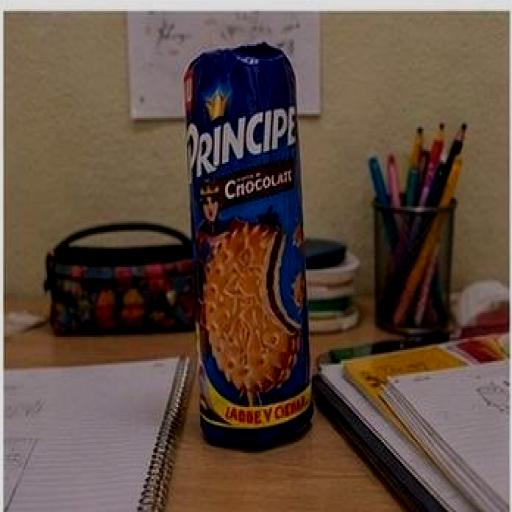prince: (120, 27, 372, 512)
